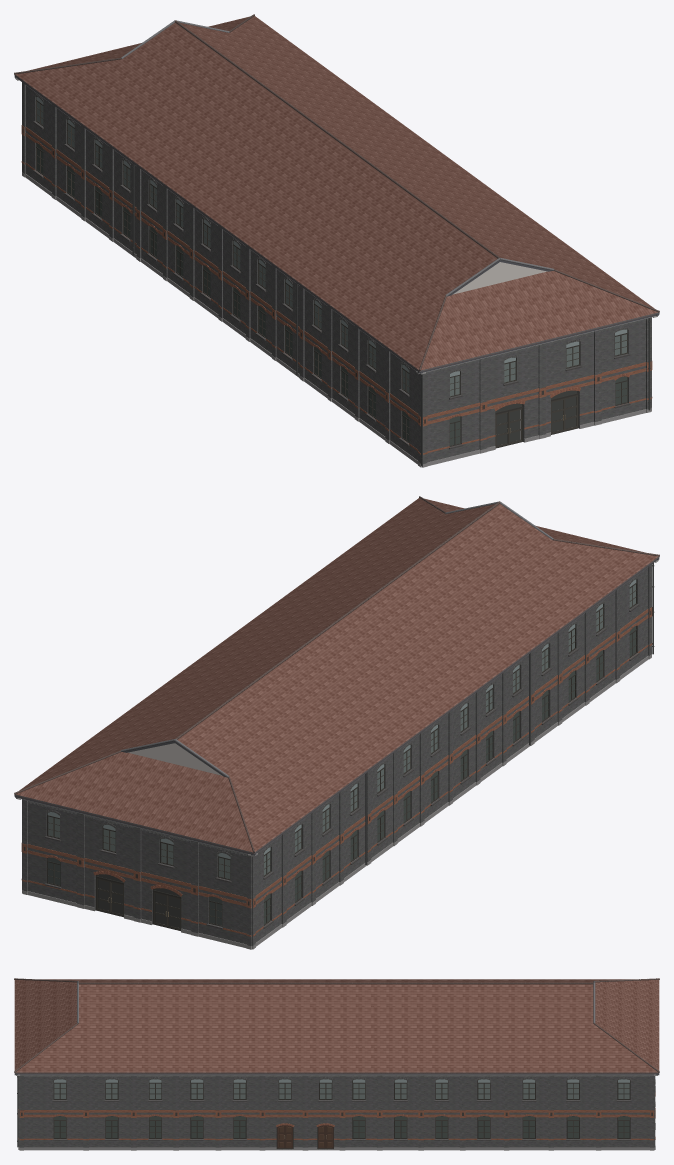
File: hongkou-yimin-food-factory-former-canteen-web.glb
The picture shows the model from 3 angles, top to bottom: view 1: azimuth 30°, elevation 25°; view 2: azimuth 150°, elevation 25°; view 3: azimuth 270°, elevation 25°; orthographic projection. The views are drawn at different scales.
Parts seen in each view (by area): view 1: 益民食品一厂旧食堂改建展厅; view 2: 益民食品一厂旧食堂改建展厅; view 3: 益民食品一厂旧食堂改建展厅.
Boxes of the visible parts, box(x1,y1,x2,y2) form: 益民食品一厂旧食堂改建展厅: box(14, 14, 659, 467); 益民食品一厂旧食堂改建展厅: box(14, 496, 659, 949); 益民食品一厂旧食堂改建展厅: box(14, 978, 659, 1150).
Size of the model in its own units: 19.72 by 12.12 by 57.51.
32 materials, 3 textured.
